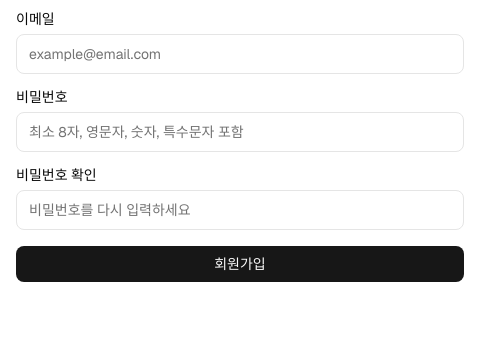
SignUpForm › 회원가입 실패 시 에러 메시지를 표시한다
The width and height of the screenshot is (481, 361).
Type "test@example.com" into the field labelled "이메일" at point(240, 54), box [16, 34, 464, 74]
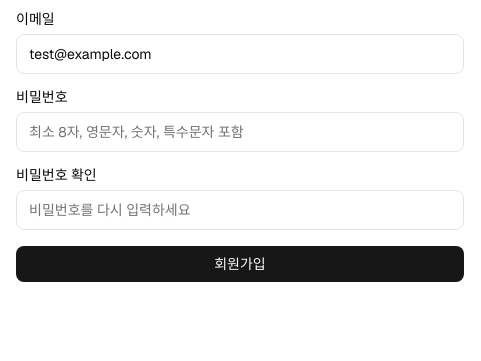
Type "password123!" into the password field labelled "비밀번호" at point(240, 132), box [16, 112, 464, 152]
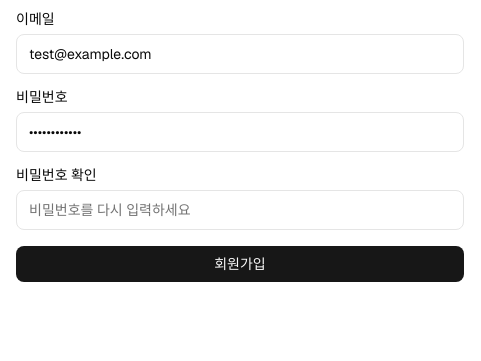
Type "password123!" into the password field labelled "비밀번호 확인" at point(240, 210), box [16, 190, 464, 230]
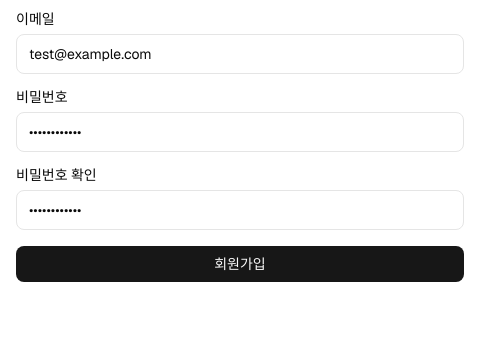
Click the button "회원가입" at point(240, 264), box [16, 246, 464, 282]
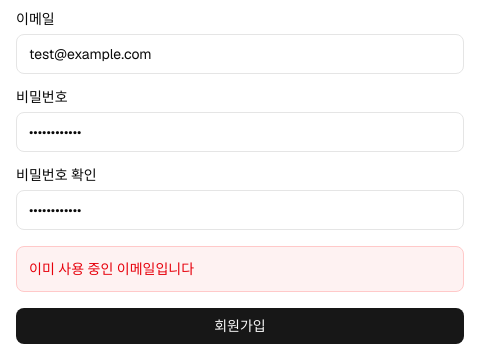
expect the text "이미 사용 중인 이메일입니다" is shown: met, box [29, 260, 194, 278]
